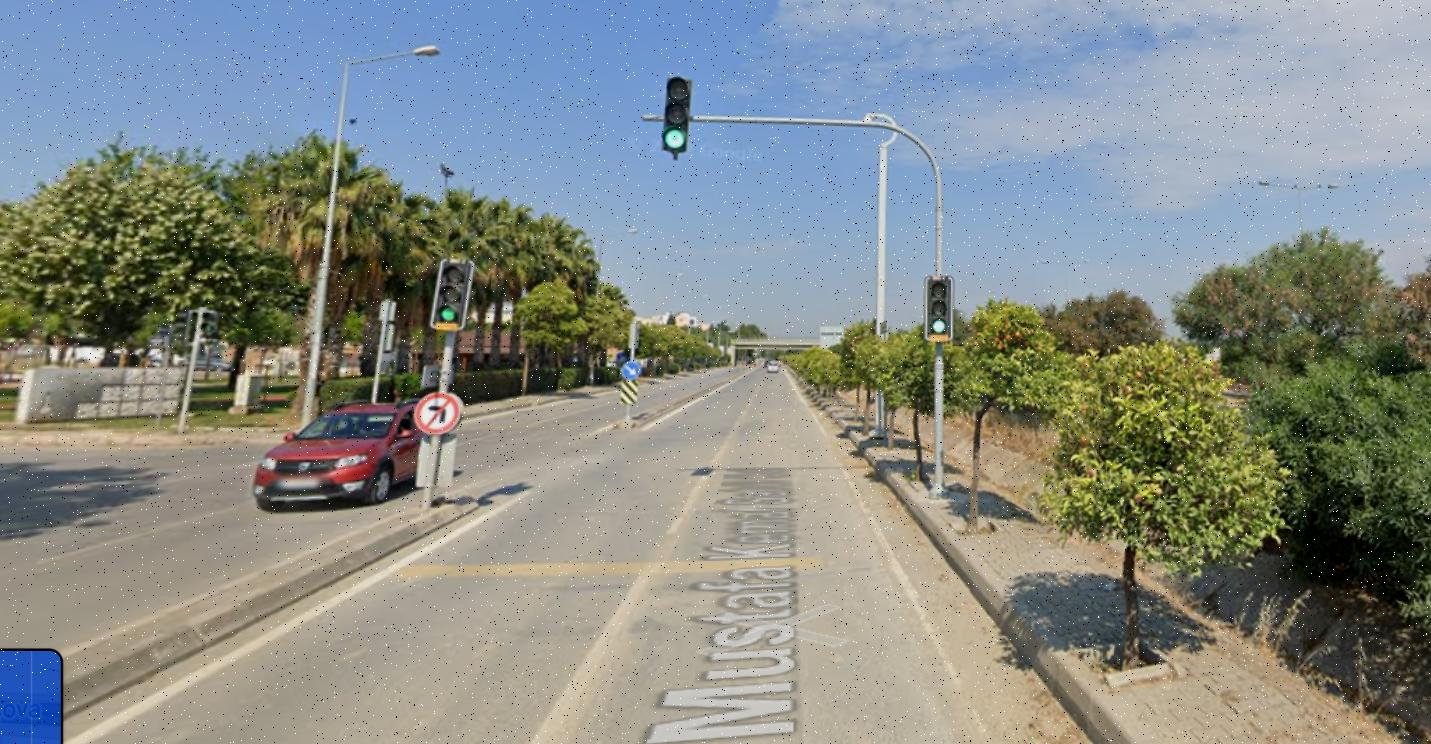greenlight: (425, 253, 480, 335), (660, 71, 696, 161), (409, 387, 465, 437), (920, 273, 957, 346)
